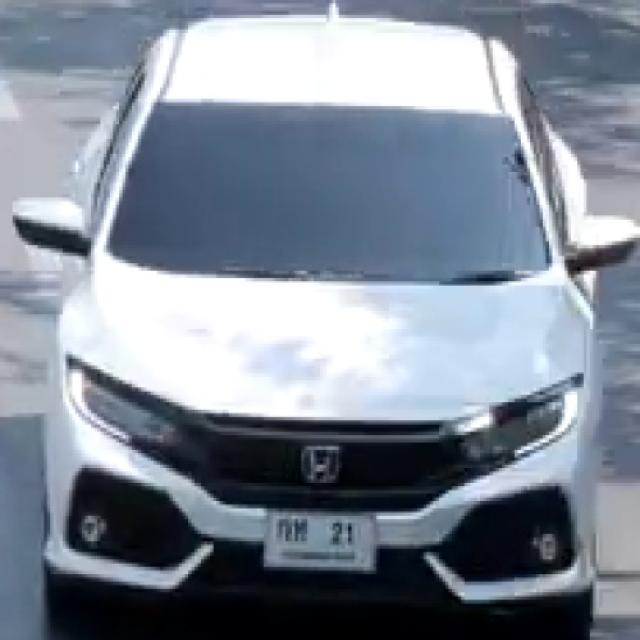plate: (263, 507, 377, 575)
